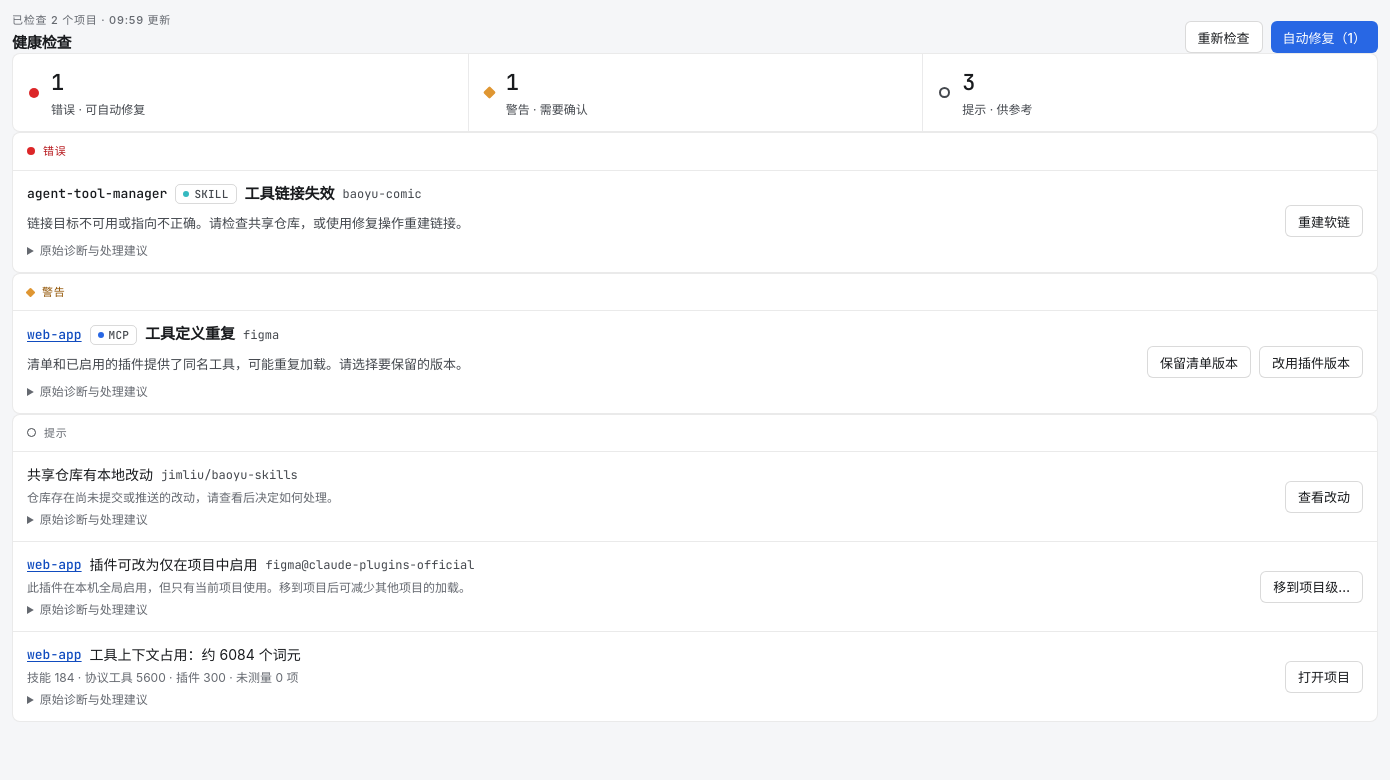
navigation and localization › localizes diagnostic explanations while preserving original details
This screenshot has width=1390, height=780.
Check: the text "工具链接失效" is shown, box [244, 183, 334, 205]
Check: the heading "错误" is shown, box [13, 133, 1377, 171]
Click the heading "原始诊断与处理建议" below "链接目标不可用或指向不正确。请检查共享仓库，或使用修复操作重建链接。" at x=94, y=250, box [40, 243, 148, 258]
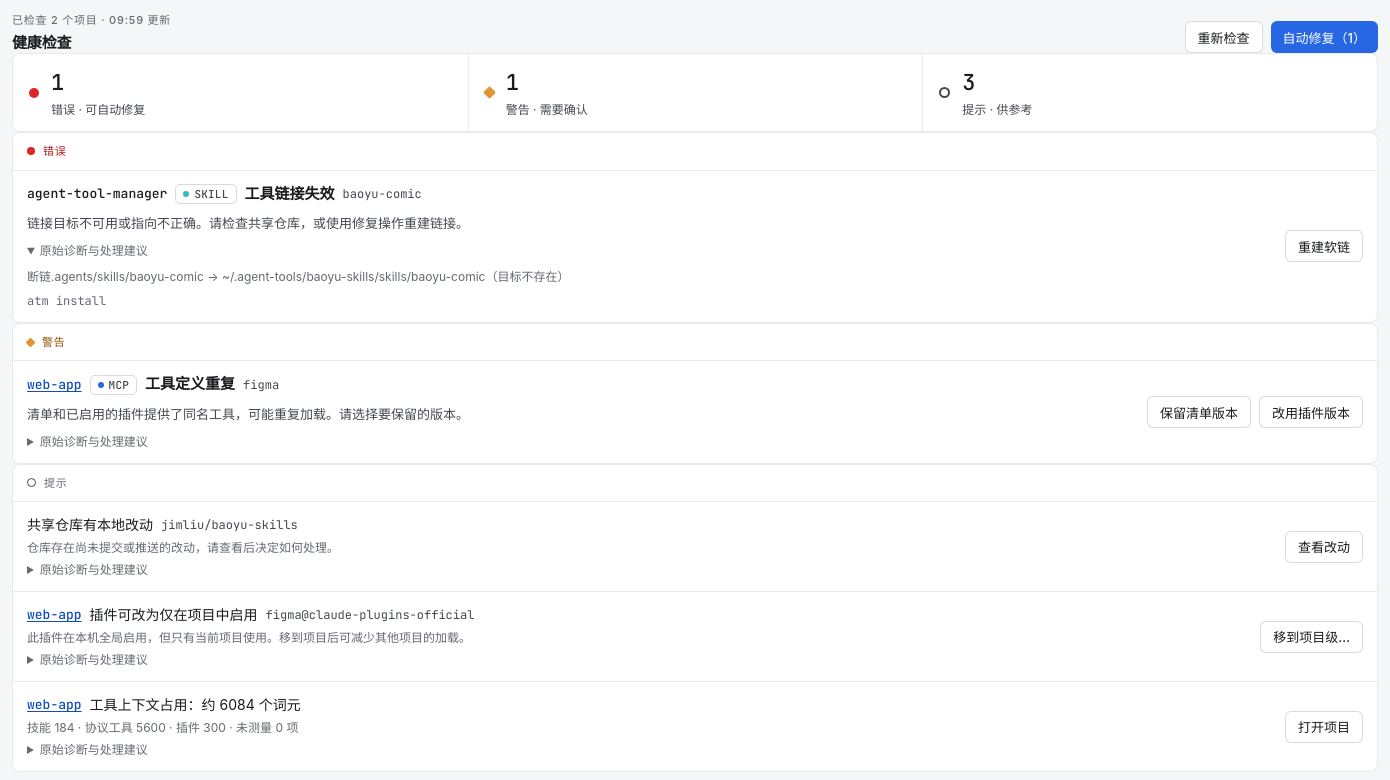
Check: the text "atm install" is shown, box [27, 293, 106, 309]
